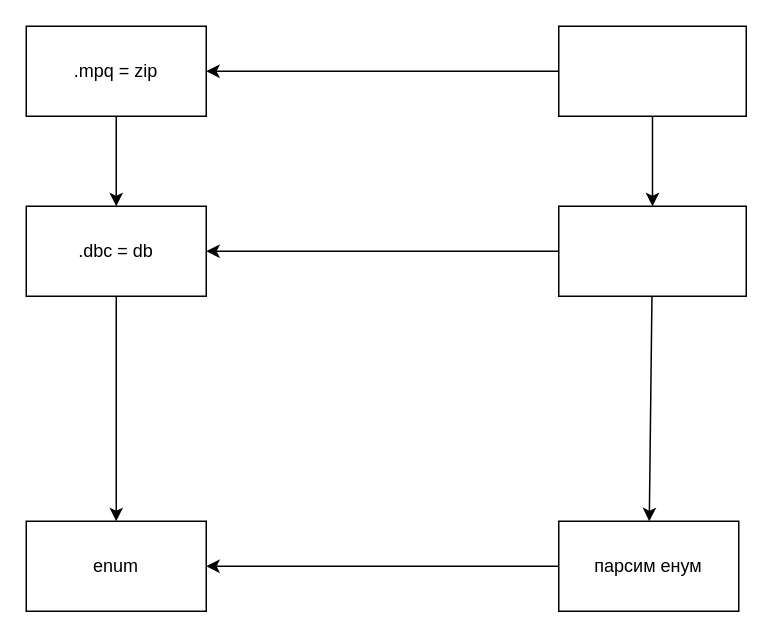
The diagram is 773 pixels wide and 638 high, and some of its shapes have lost their labels. The box of each missing label's shape, as (x1, y1, x2, y2) in pixels:
разархивировать: (557, 205, 746, 296)
скачать необходимые файлы клиента: (557, 25, 746, 116)
